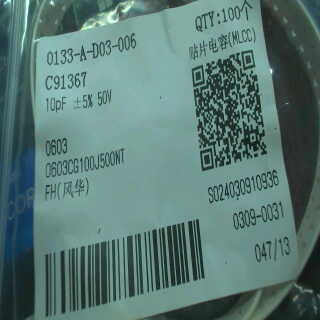10pF: (42, 91, 69, 120)
